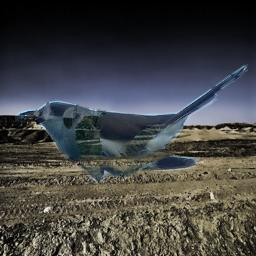Cuckoo: (15, 64, 254, 183)
